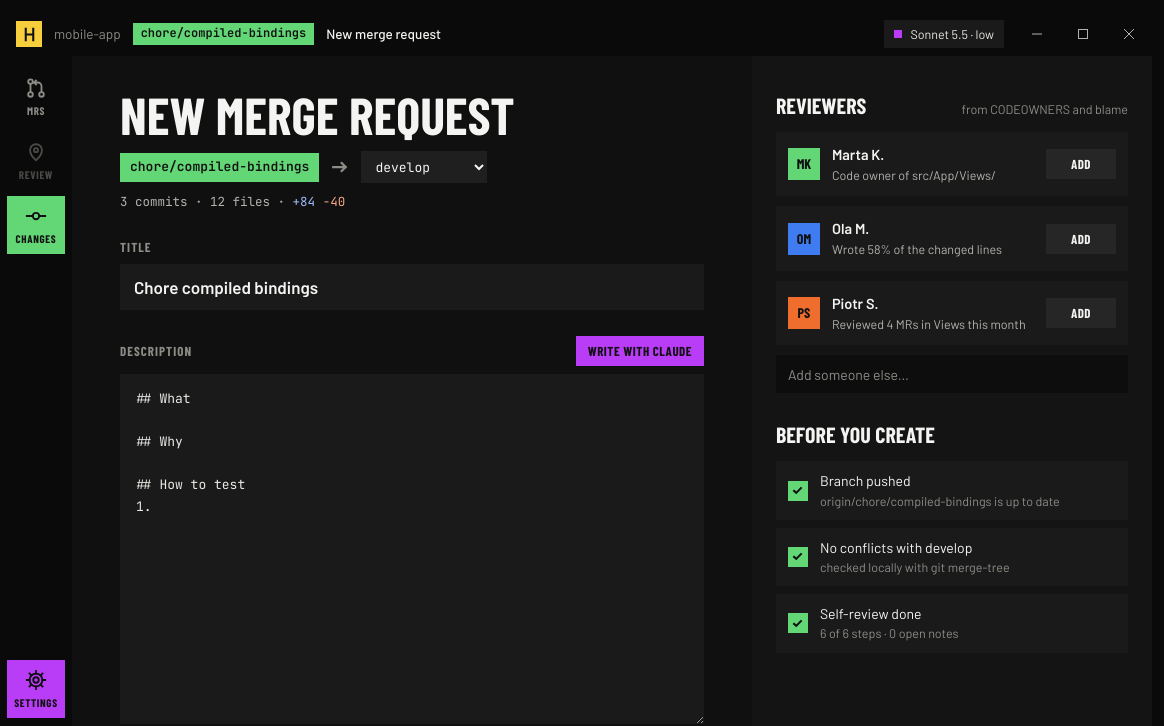
Test case: S-11 Before you create (F-27.5) › F-27.5 choosing another target checks that target
Expected: the text "No conflicts with develop" is shown, [820,539,972,556]
Select "main" in the dropdown named "Target branch": (424, 167) [361,151,487,183]
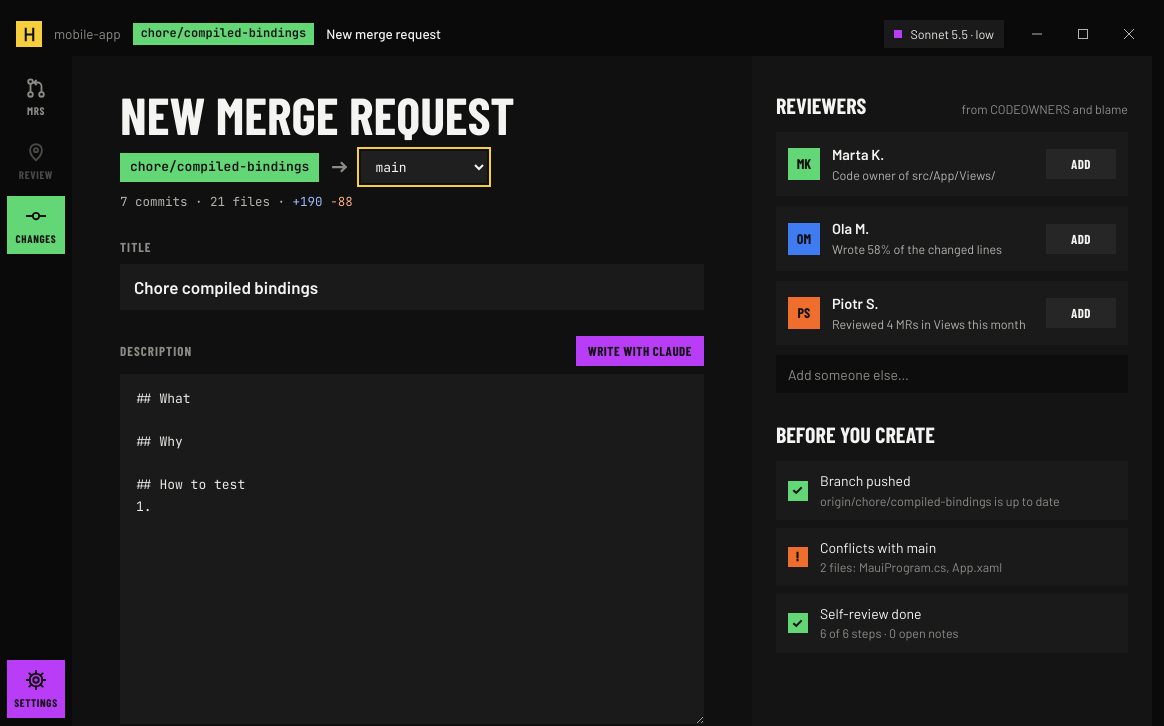
Result: the text "Conflicts with main" is shown at [820,539,936,556]
Result: the text "2 files: MauiProgram.cs, App.xaml" is shown at [820,559,1002,575]
Select "develop" in the dropdown named "Target branch": (424, 167) [361,151,487,183]
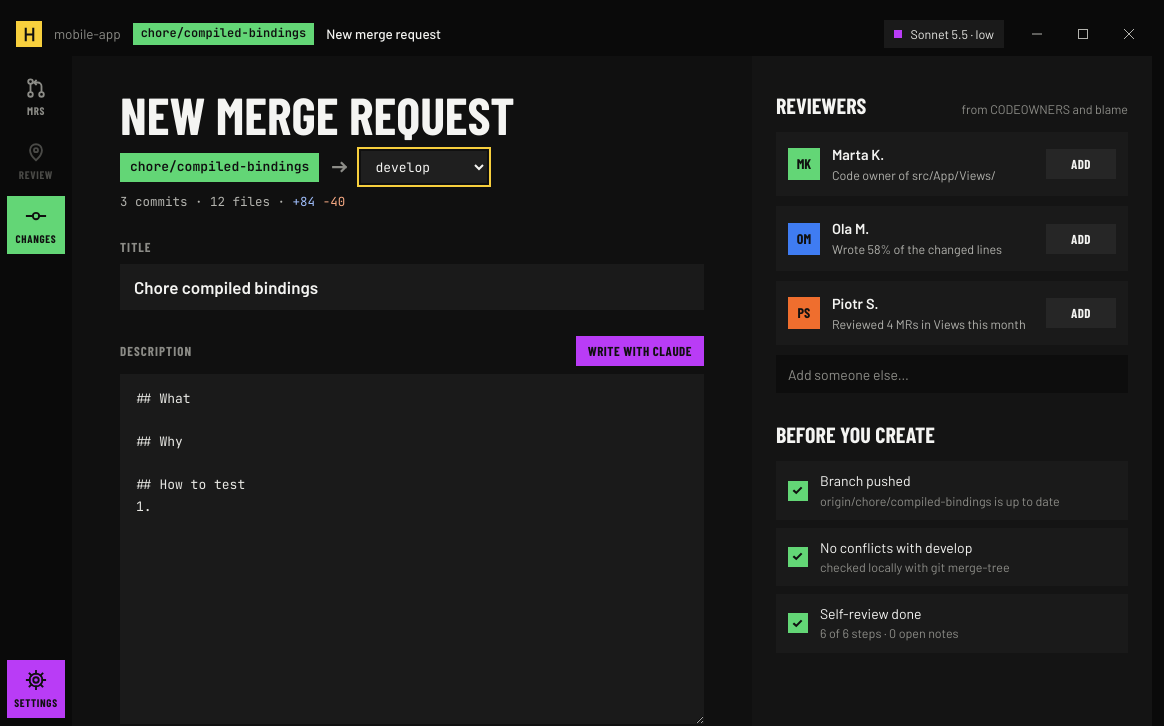
Result: the text "No conflicts with develop" is shown at [820,539,972,556]
